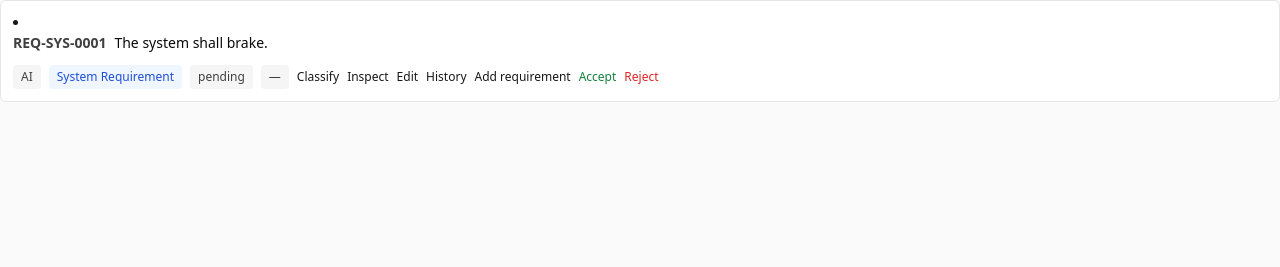
SpecNode › opens read-only history for a spec
This screenshot has width=1280, height=267.
Click the button "History": (446, 77) x1=426 y1=69 x2=466 y2=85
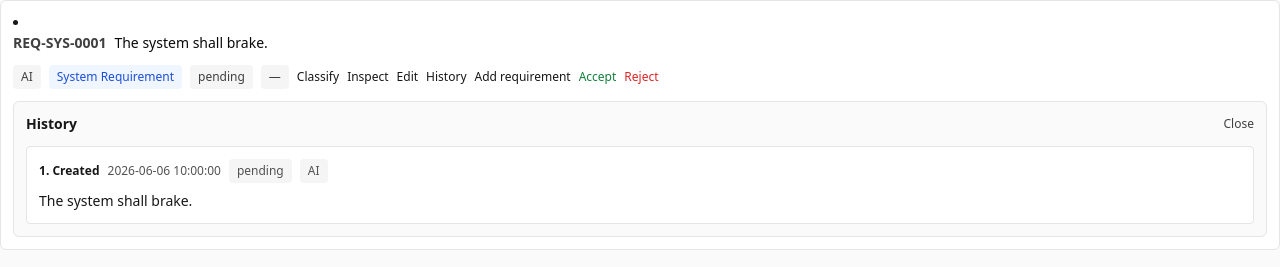
expect the number of buttons "REQ-SYS-0001The system shall brake." is 2: met, box x1=13 y1=33 x2=1267 y2=53; x1=39 y1=191 x2=192 y2=210
expect the text "1. Created" is shown: met, box x1=39 y1=163 x2=100 y2=179
